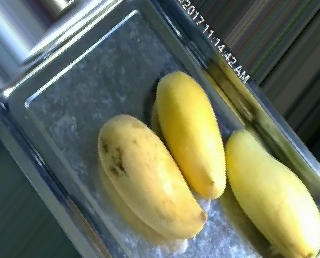Mango: (93, 110, 211, 240), (224, 129, 320, 254), (152, 65, 230, 198)
